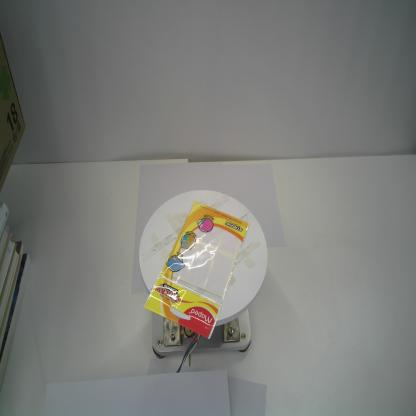Stationery: (140, 200, 252, 340)
